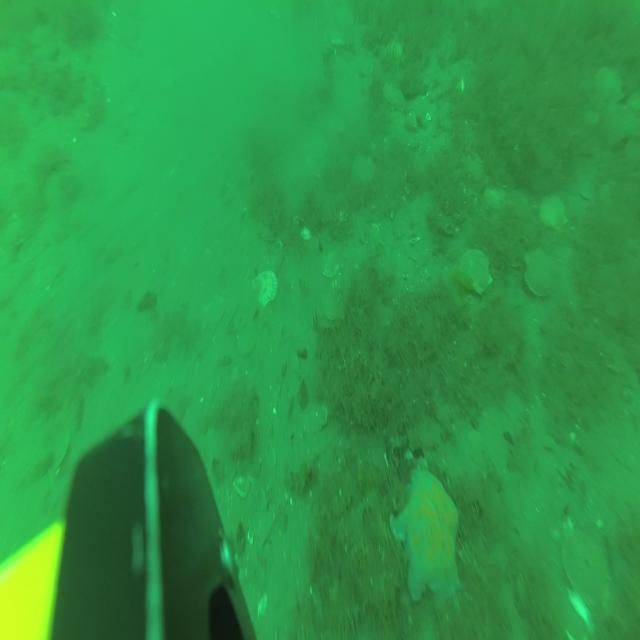scallop: (561, 524, 614, 612), (456, 247, 493, 298), (521, 249, 559, 298), (538, 192, 570, 234), (592, 63, 624, 103), (250, 268, 278, 308), (348, 154, 378, 186), (483, 182, 509, 211), (383, 79, 406, 110), (319, 248, 342, 278), (384, 32, 405, 61)
starfish: (388, 461, 461, 602)
